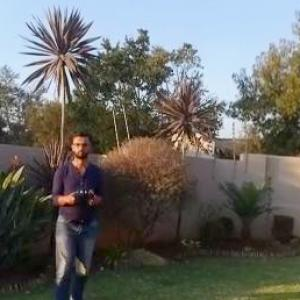follow: (45, 124, 105, 299)
